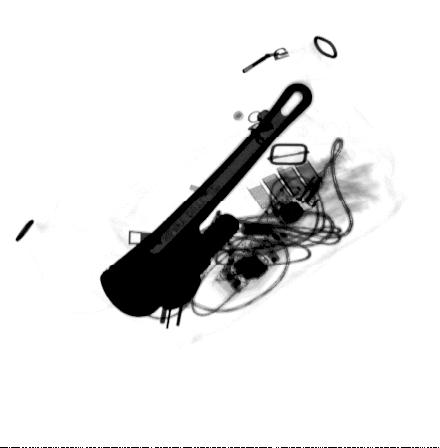Wrench: (97, 80, 315, 319)
